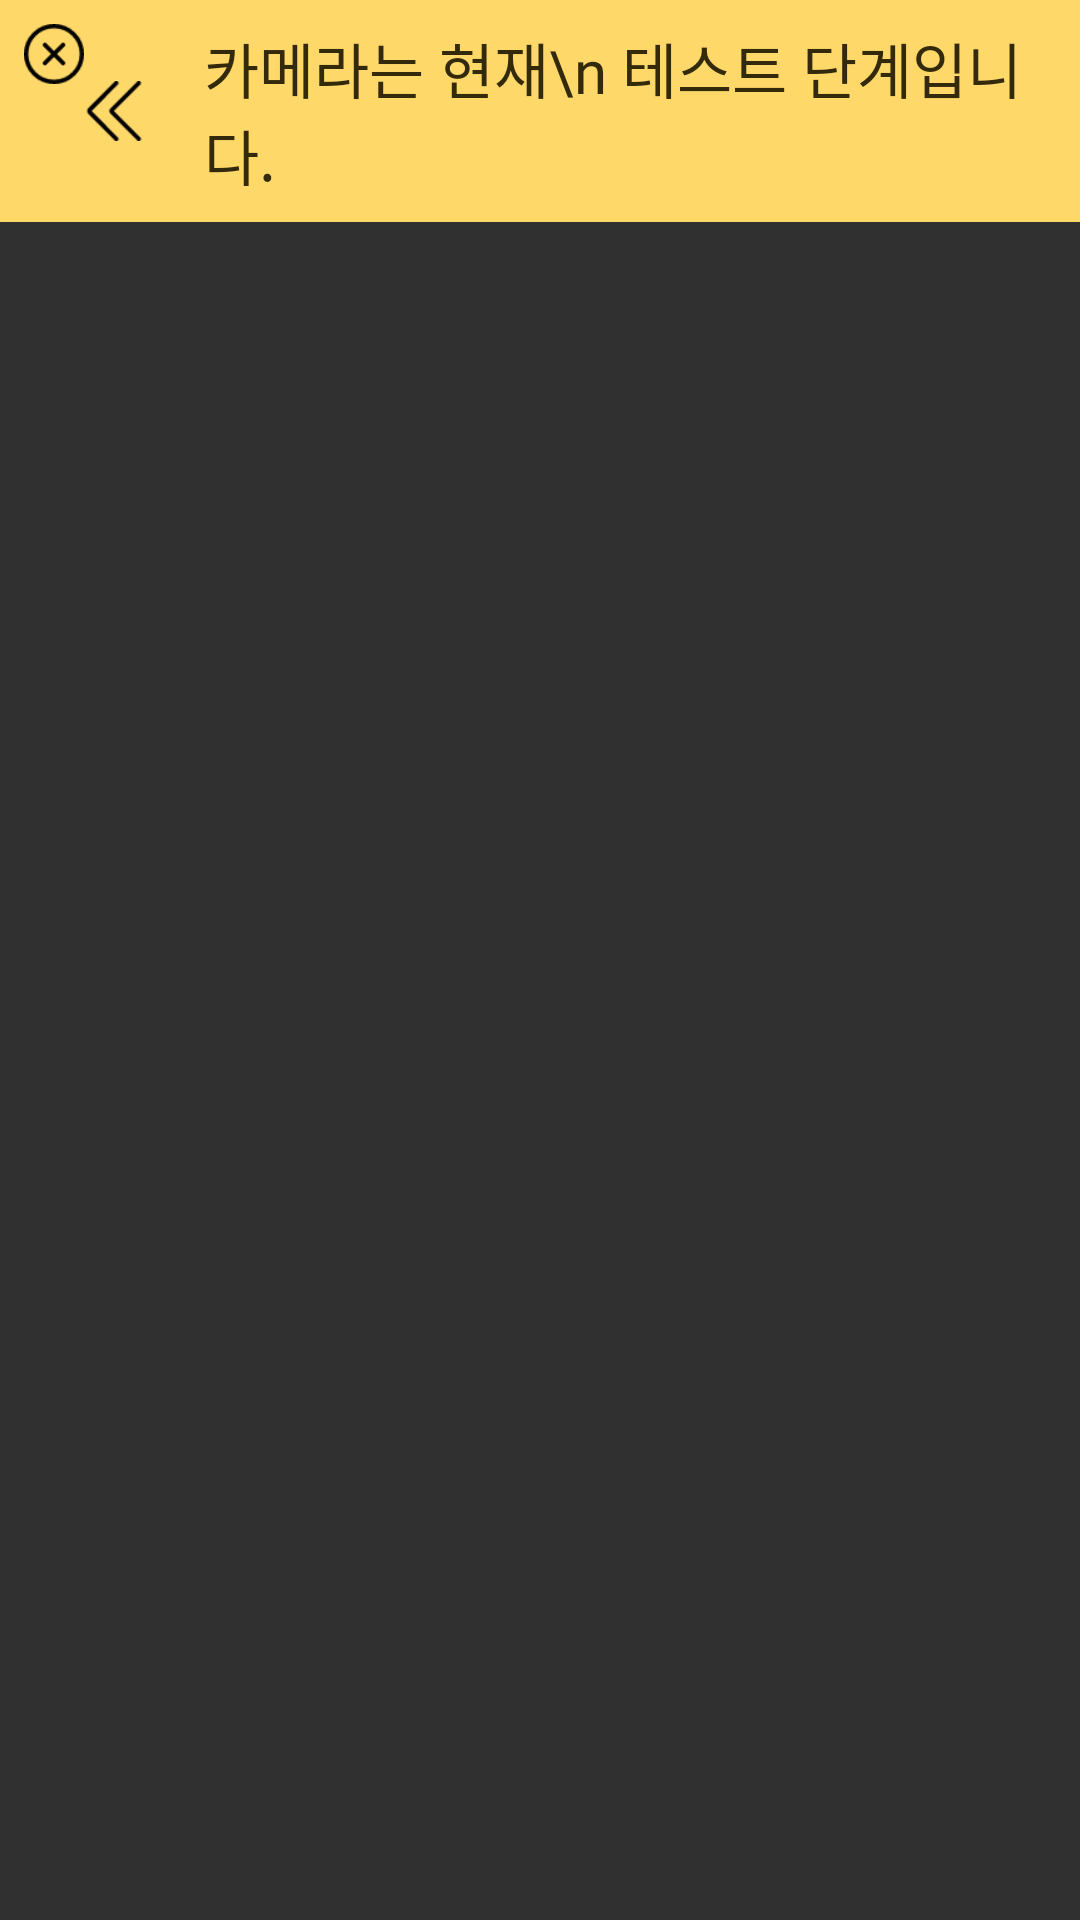

Point at icon controls on the screen. Image size 1080px x 1920px, points as point (x, y).
move previous: point (114, 111)
